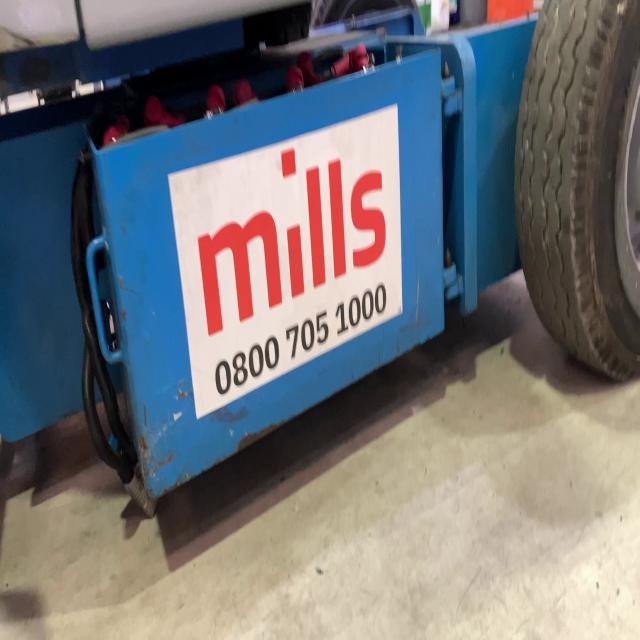Adesivos: (166, 100, 405, 426)
